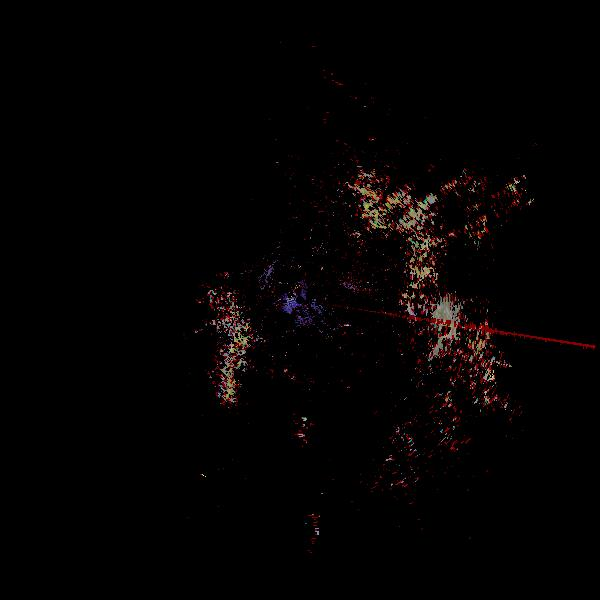roost: (279, 505, 327, 553), (273, 403, 315, 445)
